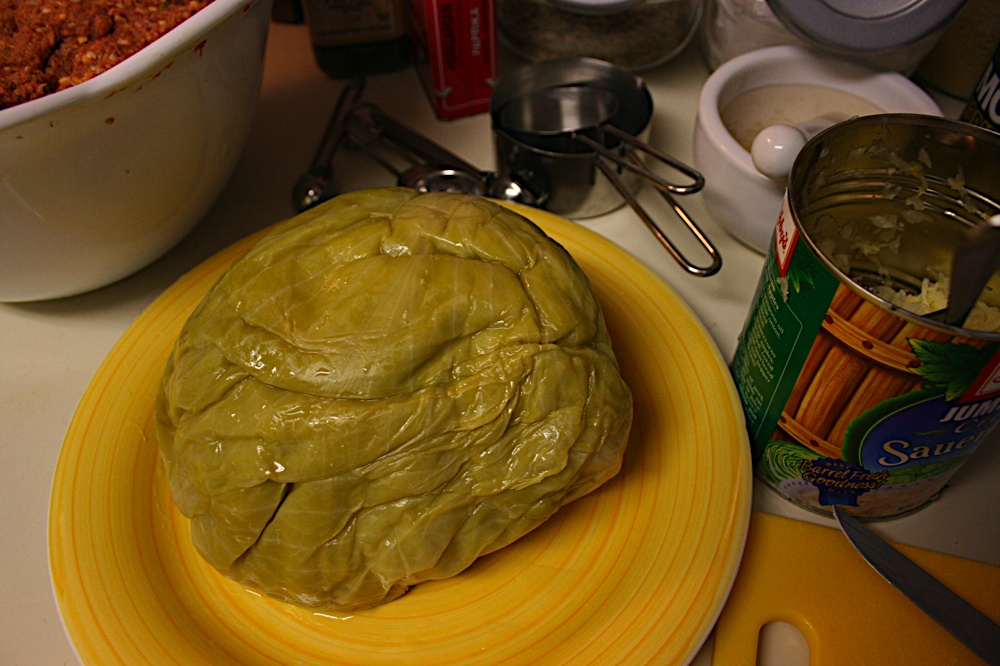cabbage: (153, 185, 635, 612)
